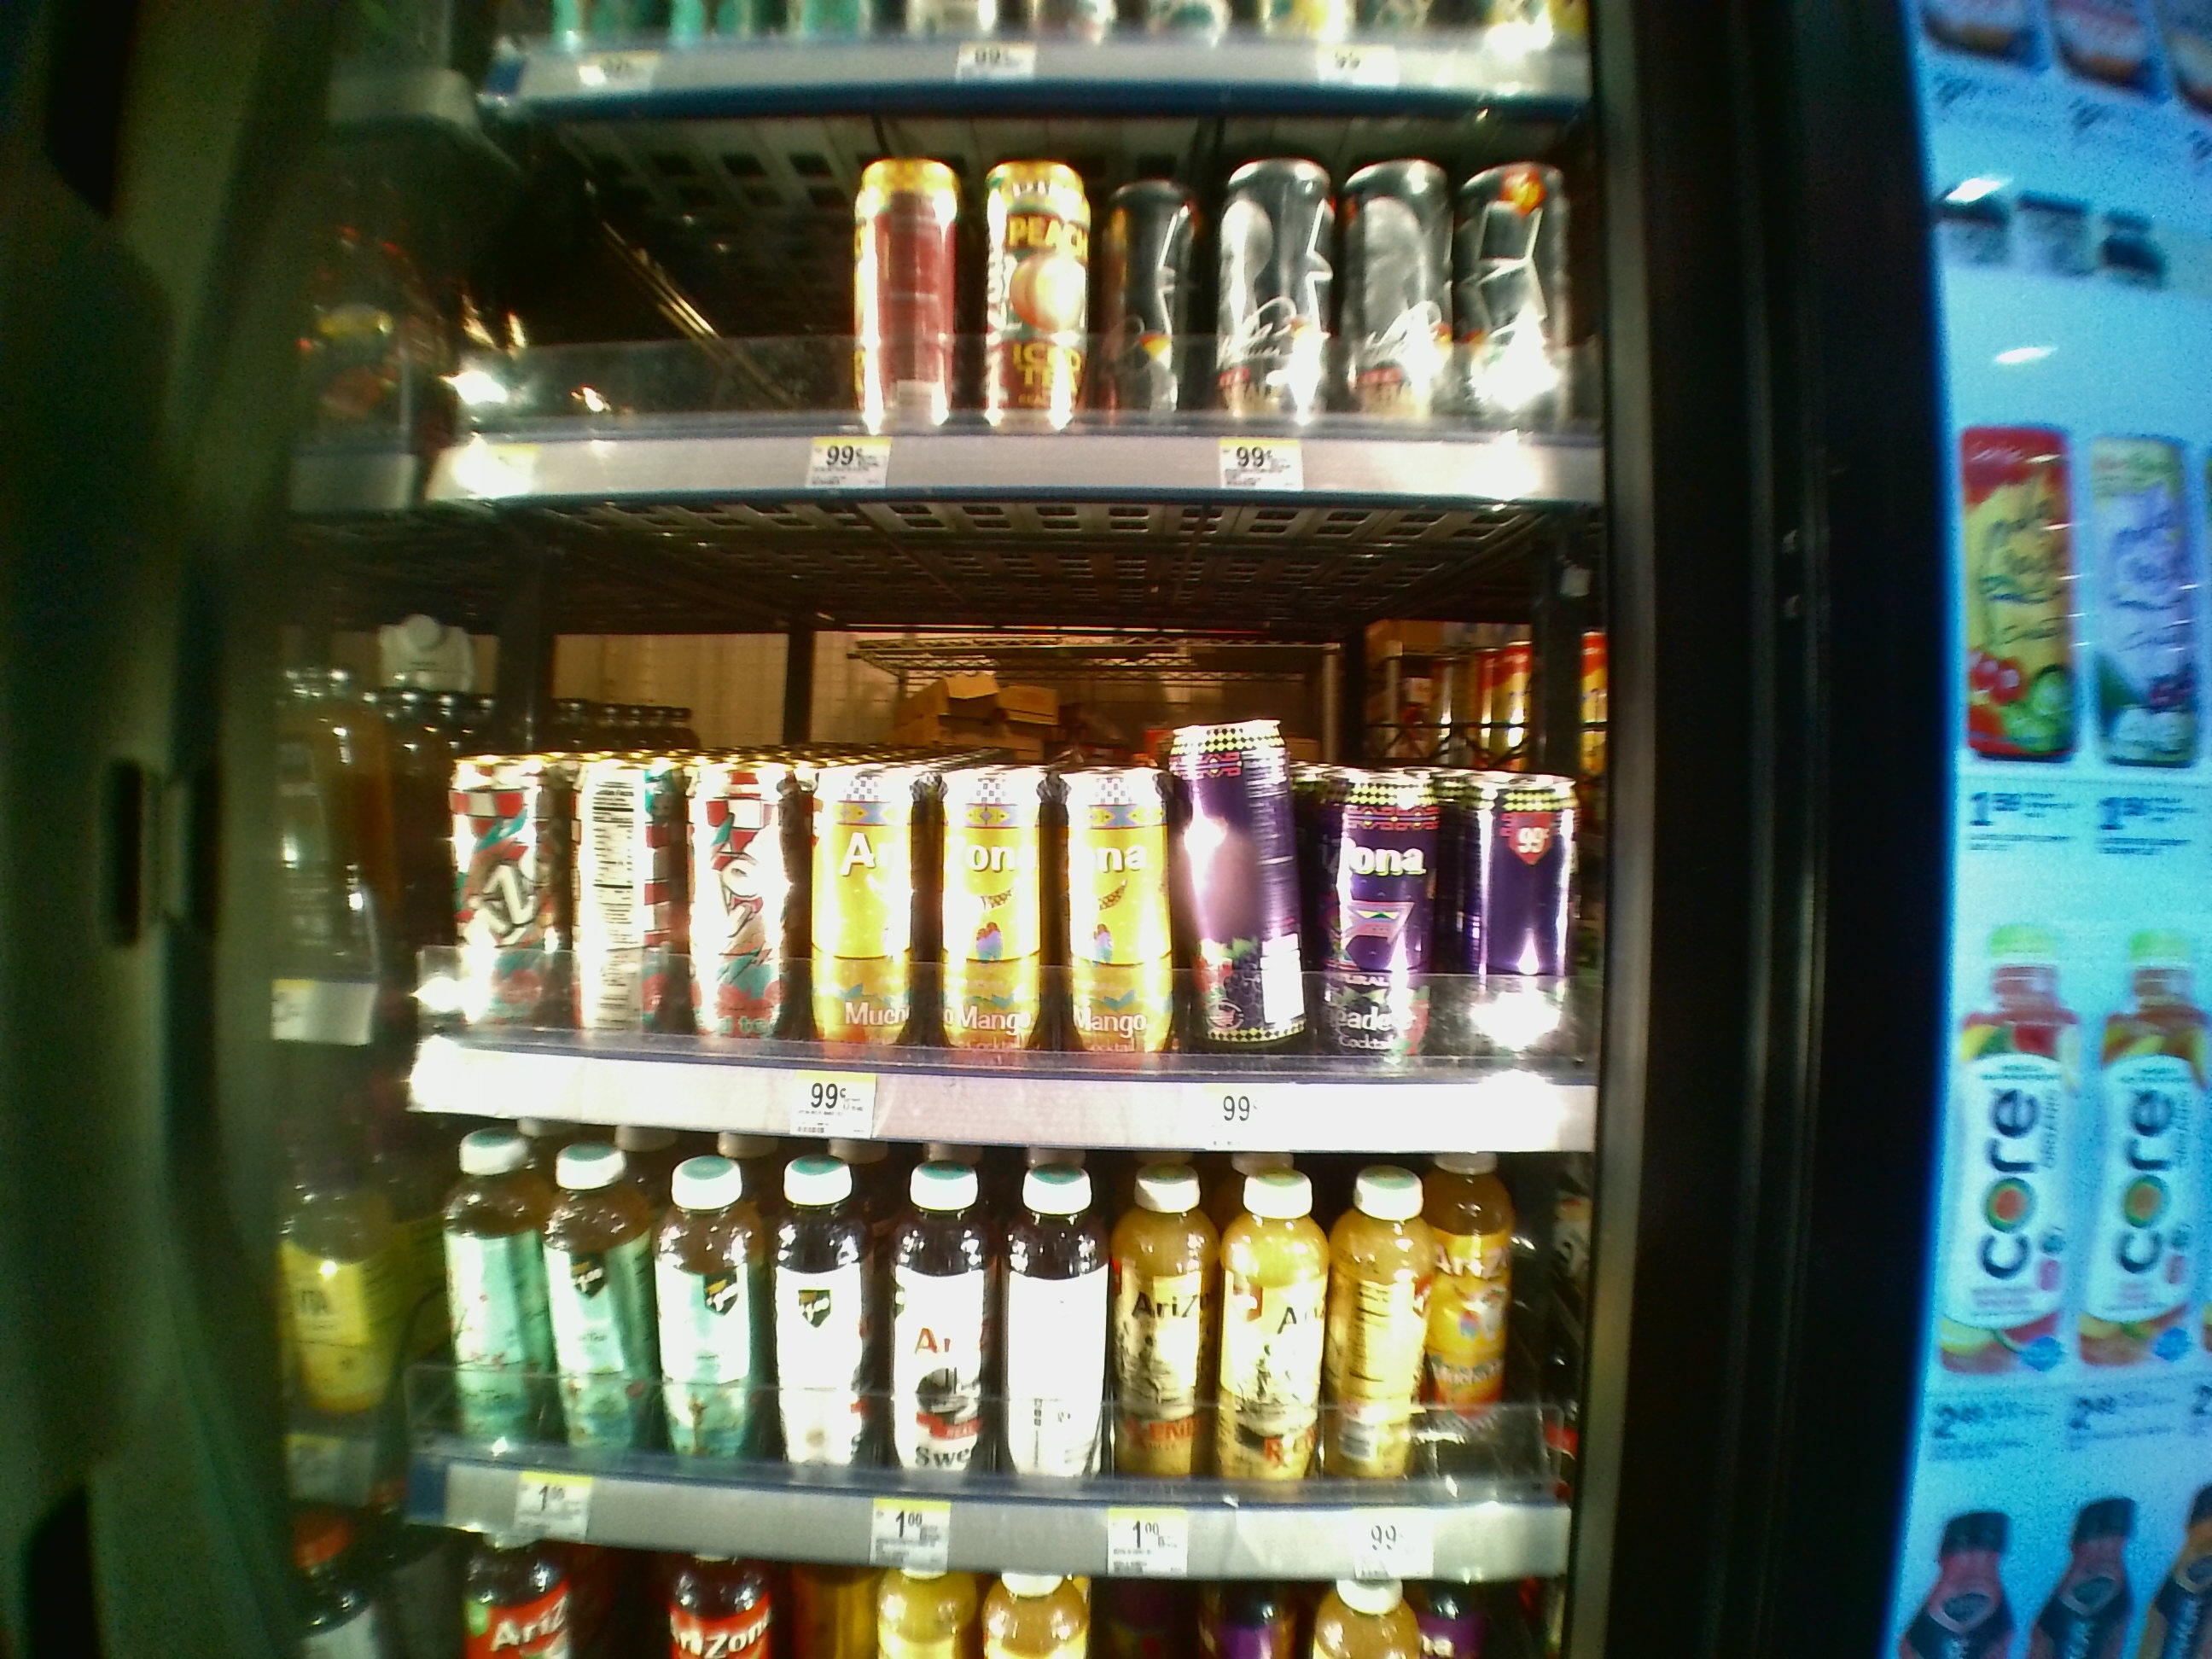shelf: (420, 512, 1599, 1162), (421, 105, 1594, 500)
